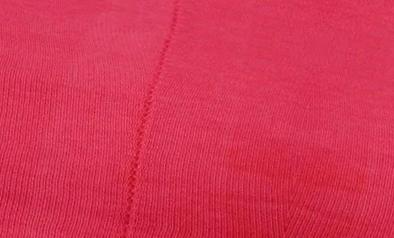slub: (115, 1, 186, 238)
